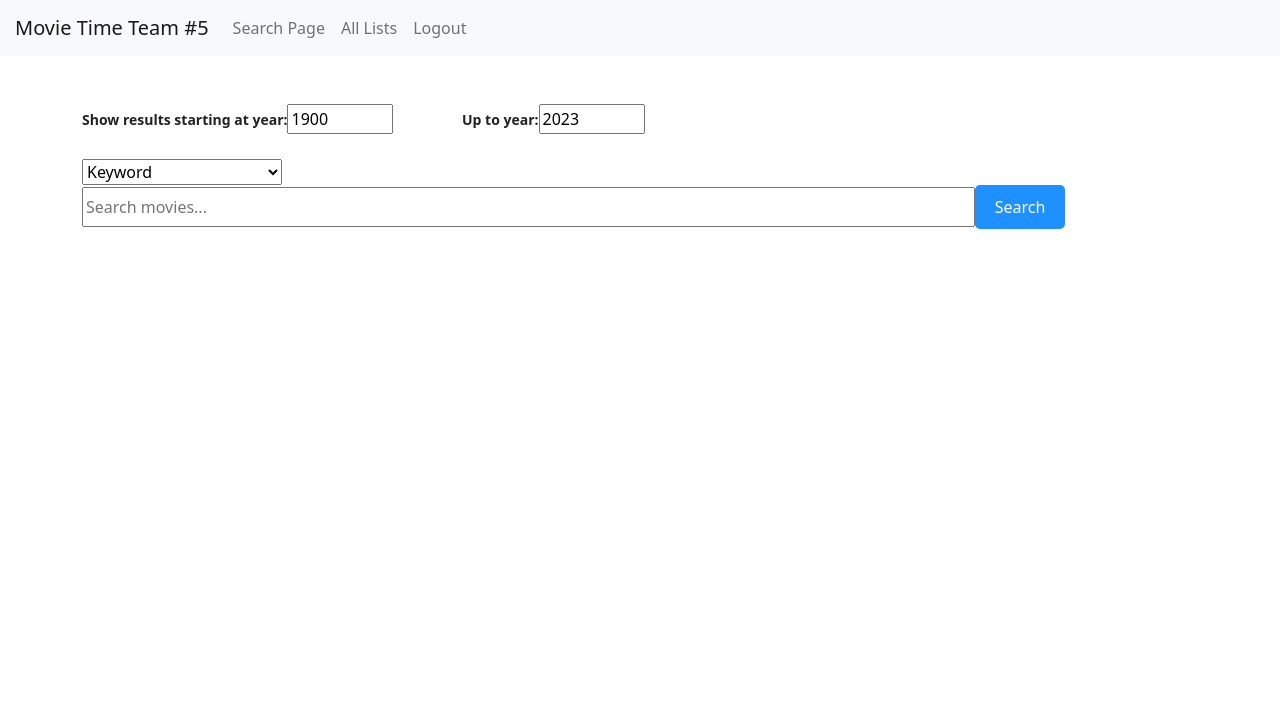
Test case: correctly fetches a movie result for Shrek
Step 1. Type "Shrek" into the field with test id "searchField" → (528, 207), box top-left (82, 187), bottom-right (975, 227)
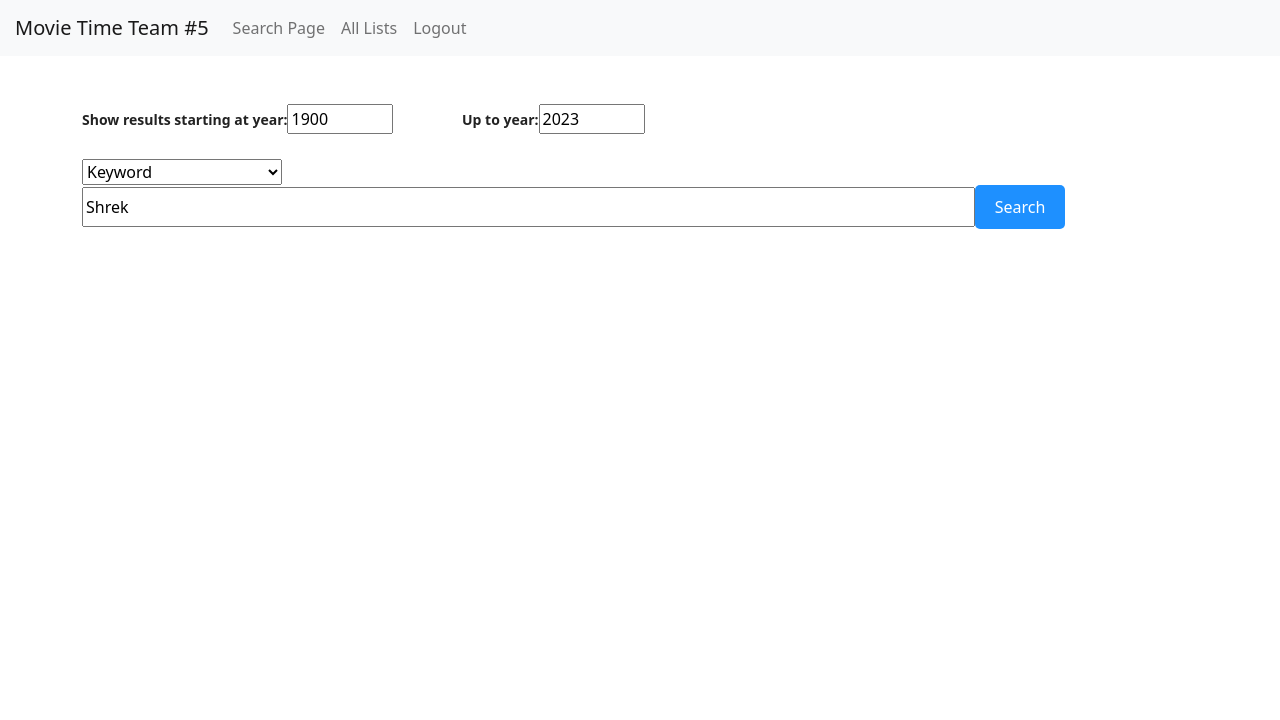
Step 2. Submit the form from the field with test id "searchField", box top-left (82, 187), bottom-right (975, 227)
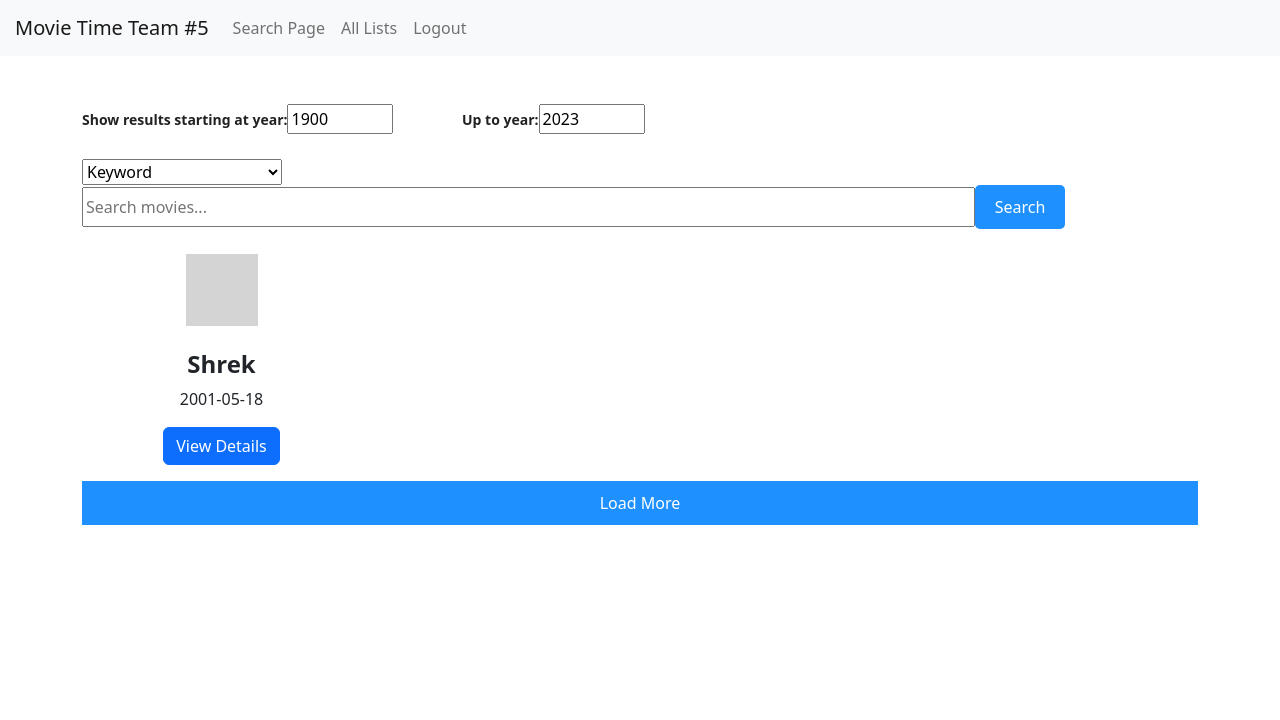
Now the heading "Shrek" is shown, box top-left (187, 347), bottom-right (256, 380)
